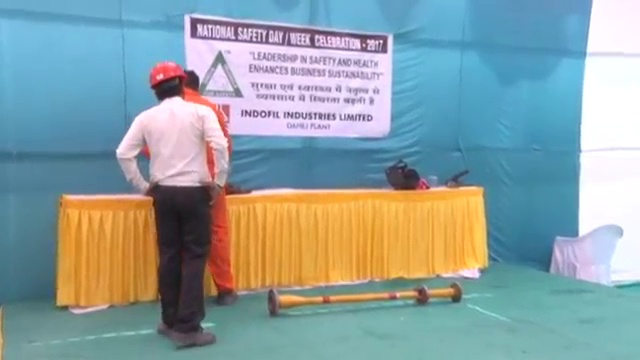helmet: (147, 59, 187, 88)
helmet_off: (183, 67, 203, 94)
helmet_on: (145, 59, 187, 102)
person: (117, 59, 226, 344), (177, 68, 239, 305)
